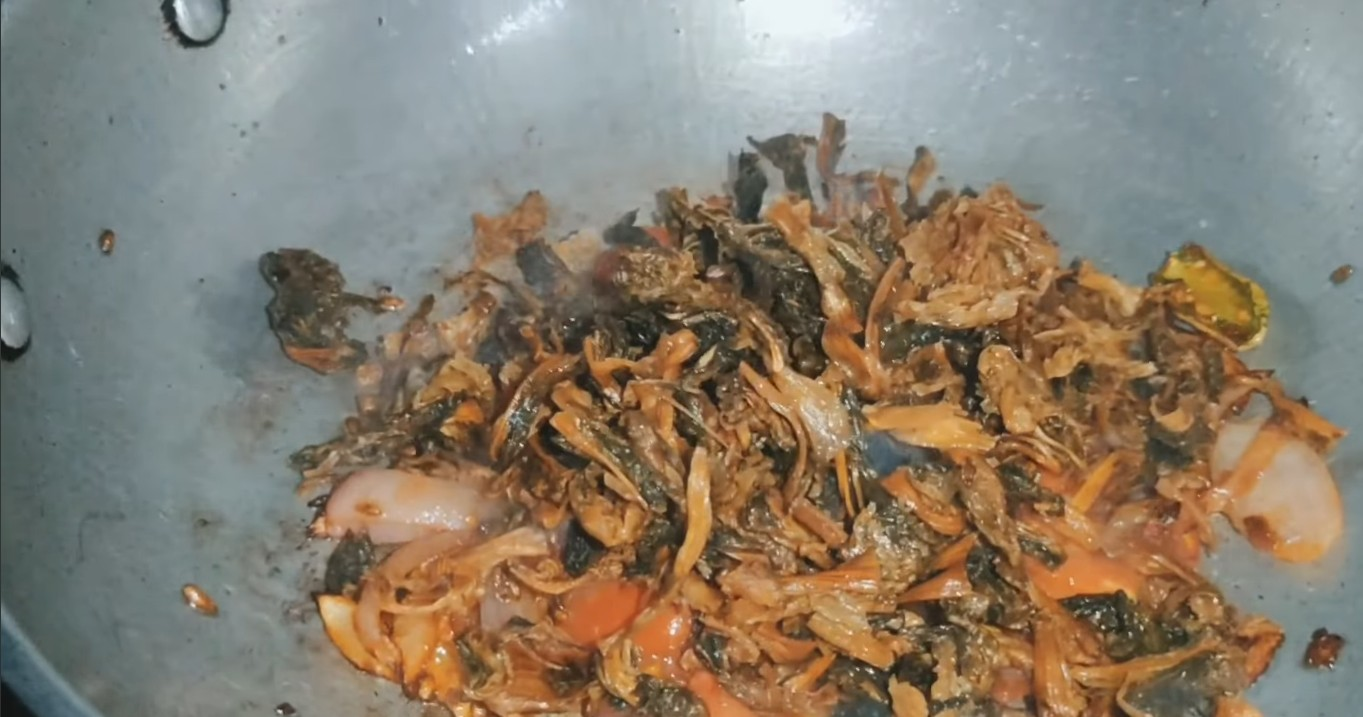gundruk: (317, 188, 1307, 700)
